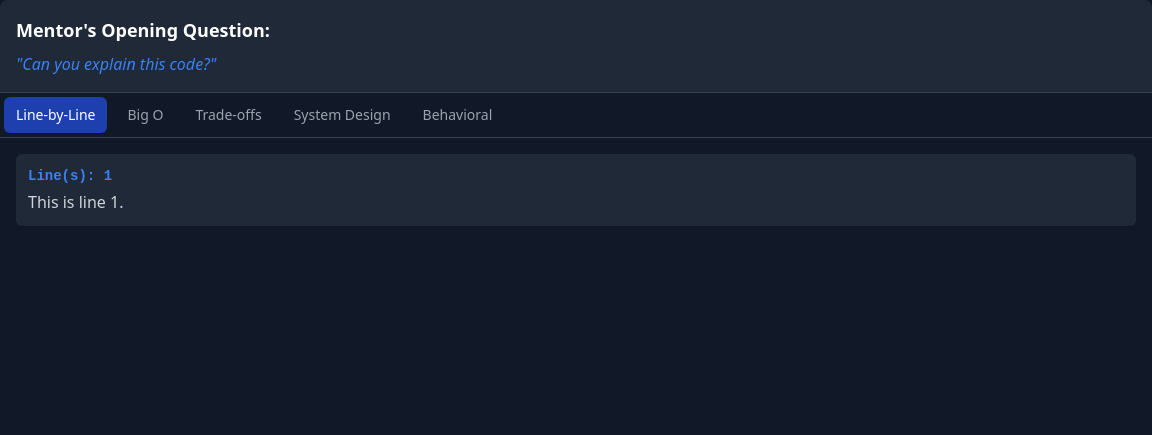
Test: ExplanationOutput › renders explanation and allows tab switching
The width and height of the screenshot is (1152, 435).
Expected: the text "This is line 1." is shown, [28,191,124,213]
# Switch to Big O
Click the button "Big O": (145, 115) [116,97,175,133]
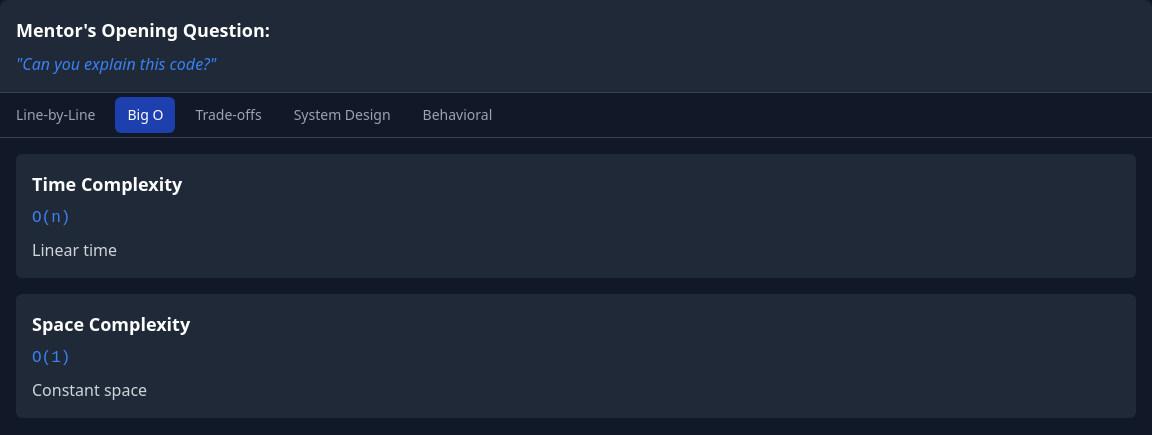
Expected: the heading "Time Complexity" is shown, [32,172,182,196]
Expected: the text "O(n)" is shown, [32,209,70,227]
Expected: the text "Linear time" is shown, [32,239,117,261]
# Switch to Trade-offs
Click the button "Trade-offs": (229, 115) [183,97,274,133]
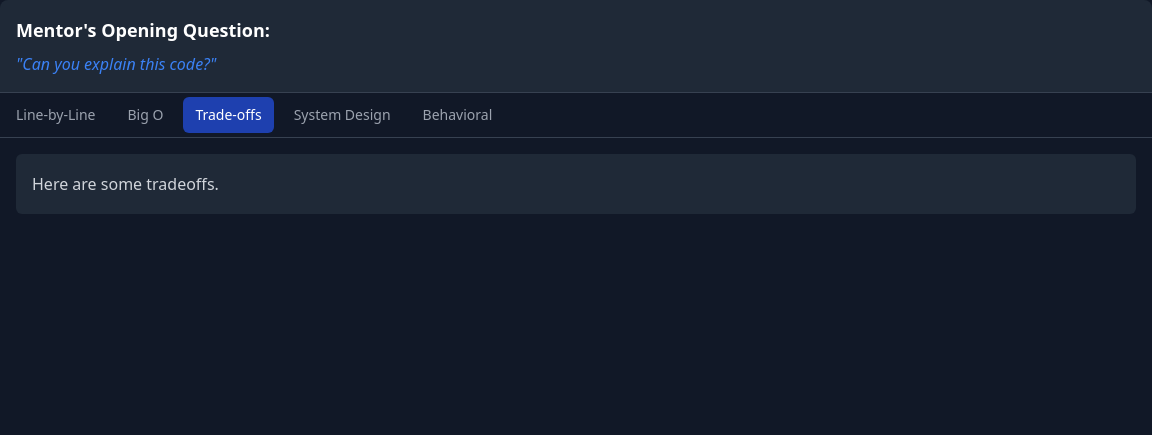
Expected: the text "Here are some tradeoffs." is shown, [16,154,1136,214]
# Switch to System Design
Click the button "System Design": (342, 115) [282,97,403,133]
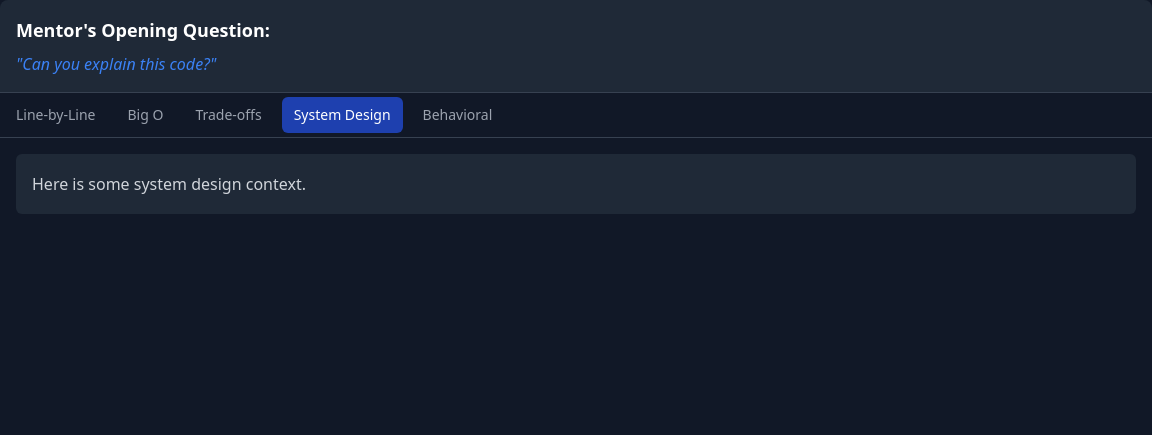
Expected: the text "Here is some system design context." is shown, [16,154,1136,214]
# Switch to Behavioral
Click the button "Behavioral": (457, 115) [411,97,504,133]
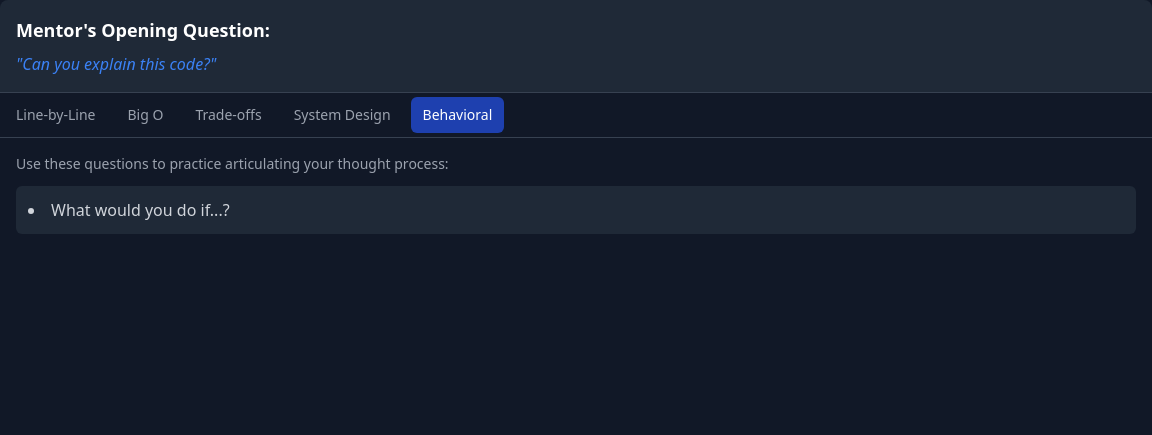
Expected: the list item "What would you do if...?" is shown, [16,186,1136,234]
